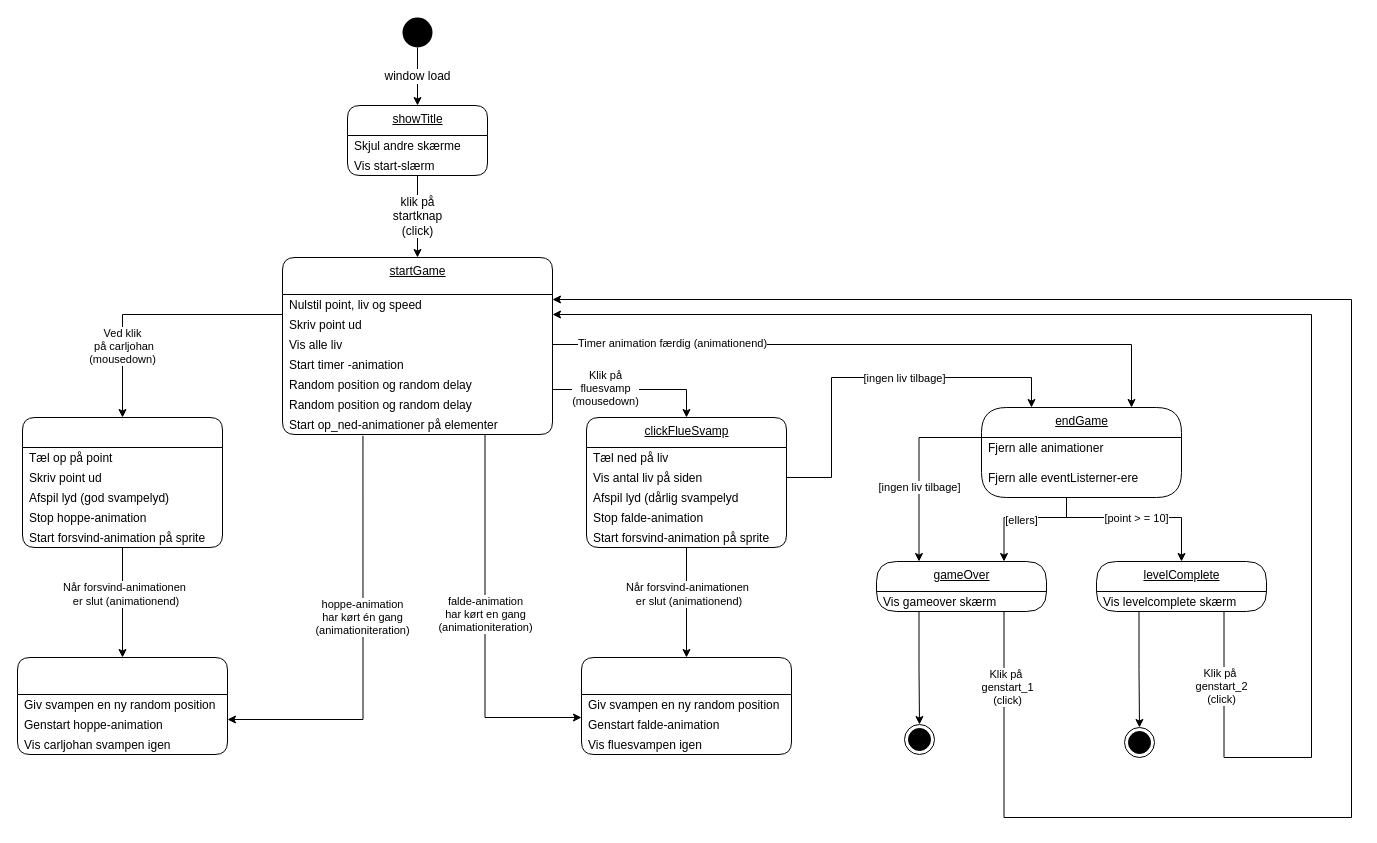
The diagram is 1377 pixels wide and 843 high, and some of its shapes have lost their labels. The shapes that lost their labels are listed below. From the top down, each one's box as (x1, y1, x2, y2) in pixels, then its label:
(22, 416, 222, 548): clickCarlJohan
(16, 656, 228, 754): genstartCarlJohan
(580, 656, 792, 754): genstart FlueSvamp
